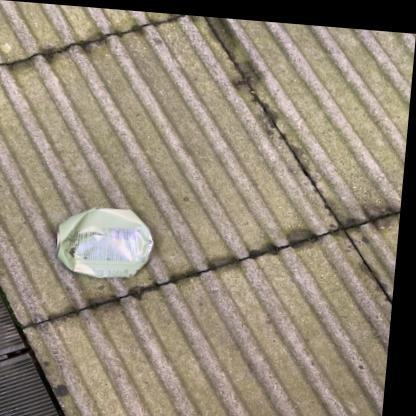trash: (57, 208, 152, 277)
